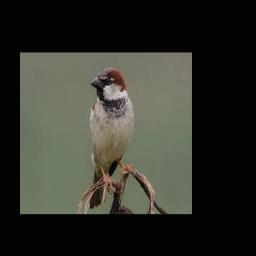Sparrow: (89, 66, 135, 209)
